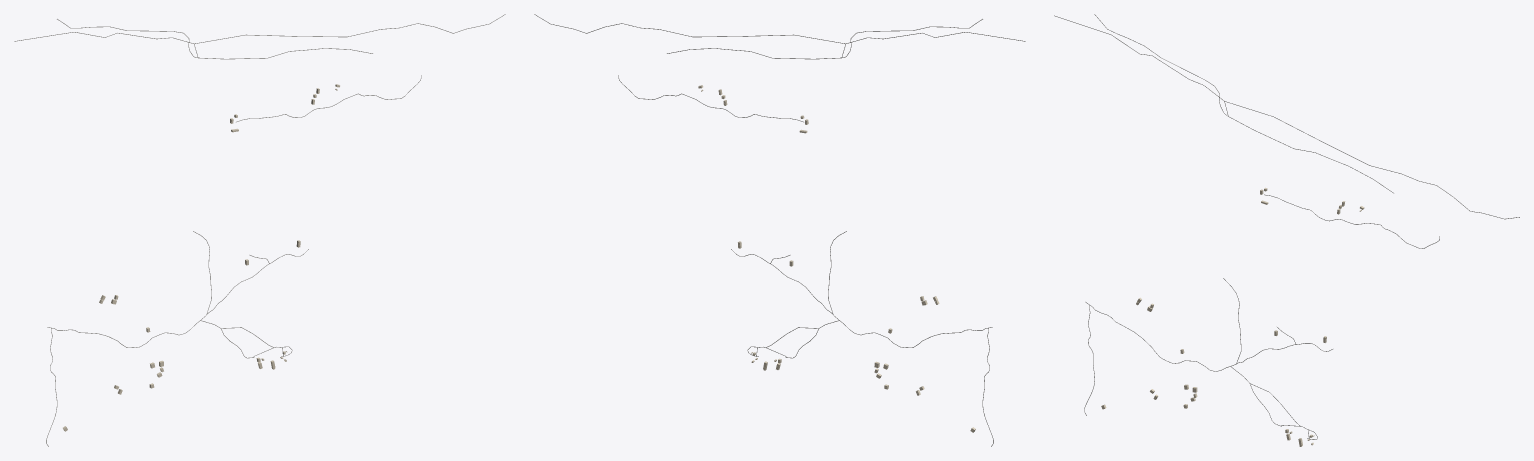
The model's file is historic-palestine-11_25_3532_3190.glb.
3 views of the same model, side by side, from view 1: azimuth 30°, elevation 25°; view 2: azimuth 150°, elevation 25°; view 3: azimuth 330°, elevation 25° (orthographic). The views are drawn at different scales.
Visible parts, largest first — view 1: Road; view 2: Road; view 3: Road.
Boxes of the visible parts, x1=… form: Road: x1=14, y1=14, x2=505, y2=43; Road: x1=534, y1=14, x2=1025, y2=43; Road: x1=1054, y1=15, x2=1519, y2=219.
Size of the model in its own units: 1461 by 1210 by 8.7.
